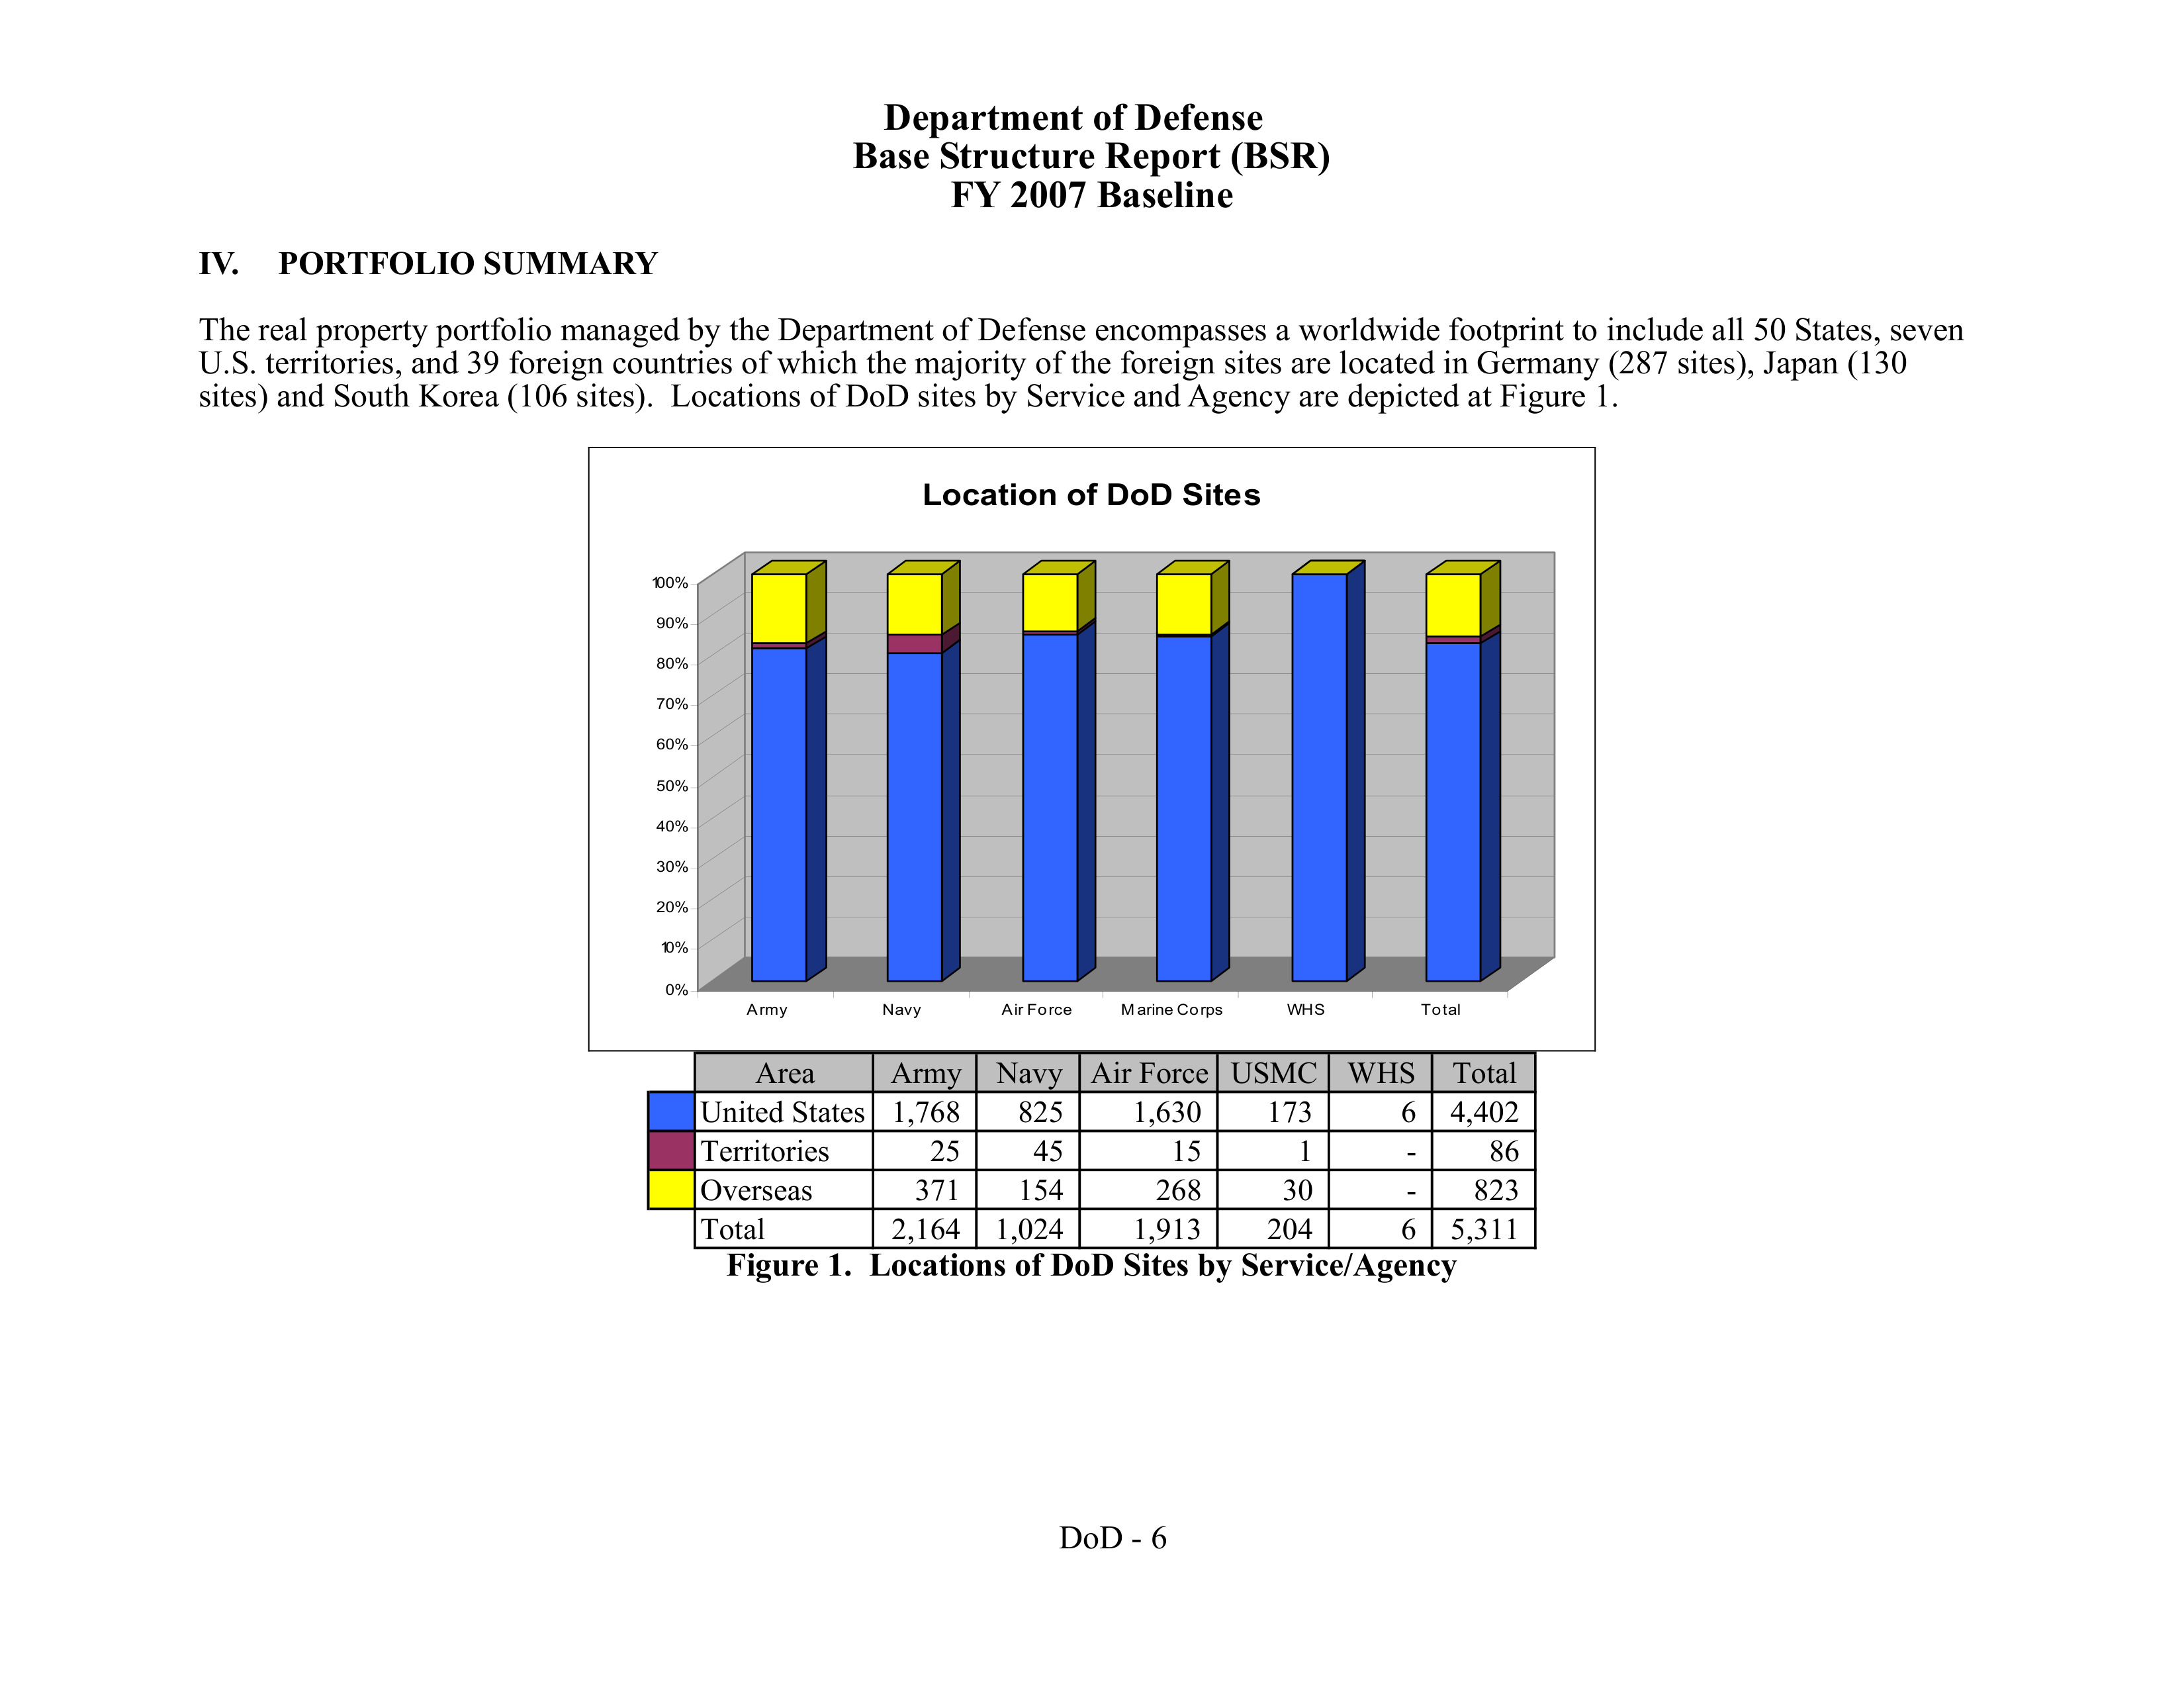table: (700, 1055, 1519, 1245)
